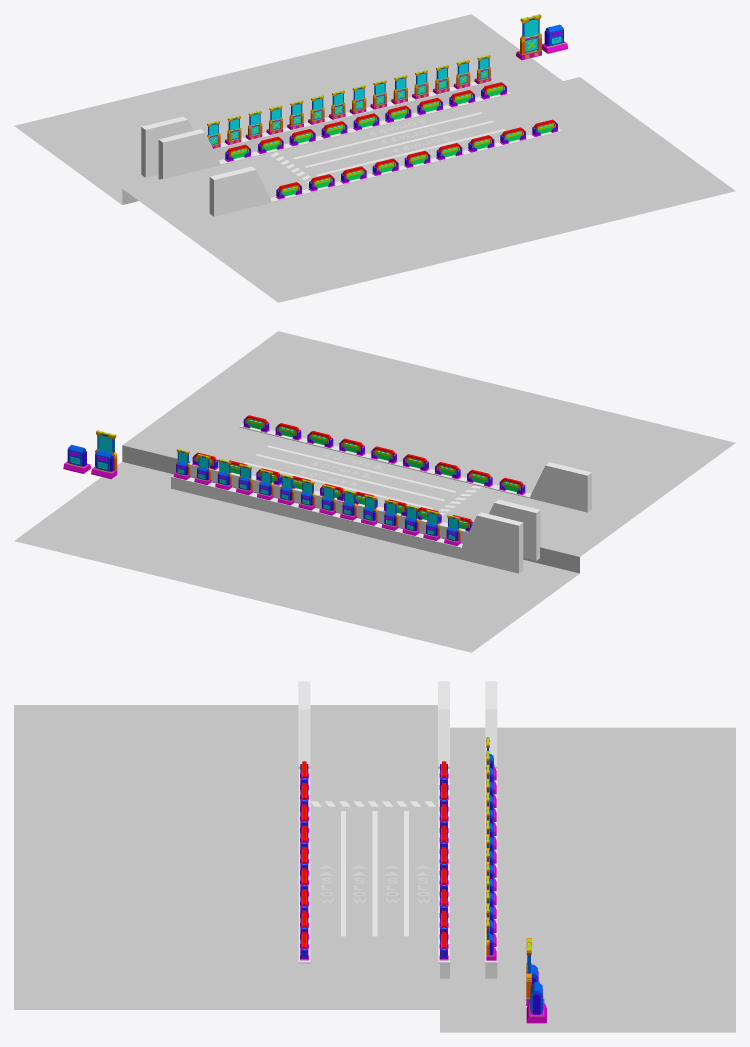
Rendered from Ground.fbx.
3 views of the same model, one above another, from view 1: azimuth 30°, elevation 25°; view 2: azimuth 150°, elevation 25°; view 3: azimuth 270°, elevation 25° (orthographic). The views are drawn at different scales.
Parts seen in each view (by area): view 1: BackGround, Box020, Box077, Box046, Box047, Box078, Box022, Object011, Object090; view 2: BackGround, Box046, Box047, Box077, Box022, Box020, Box078, Object011, Object090; view 3: BackGround, Box077, Box046, Box078, Box020, Box047, Box022, Plane001, Object090, Plane014, Plane015.
Part boxes in pixels (bbox=[...]): BackGround: bbox=[14, 14, 735, 302]; Box020: bbox=[158, 129, 220, 179]; Box077: bbox=[209, 166, 271, 216]; Box046: bbox=[213, 79, 493, 159]; Box047: bbox=[141, 116, 192, 177]; Box078: bbox=[270, 128, 561, 202]; Box022: bbox=[219, 91, 510, 165]; Object011: bbox=[516, 14, 541, 60]; Object090: bbox=[542, 24, 567, 53]; BackGround: bbox=[14, 331, 735, 652]; Box046: bbox=[171, 475, 462, 559]; Box047: bbox=[462, 512, 523, 573]; Box077: bbox=[530, 462, 591, 512]; Box022: bbox=[189, 461, 468, 542]; Box020: bbox=[489, 499, 540, 560]; Box078: bbox=[239, 424, 530, 498]; Object011: bbox=[91, 430, 117, 479]; Object090: bbox=[63, 444, 90, 473]; BackGround: bbox=[14, 705, 735, 1032]; Box077: bbox=[298, 681, 310, 769]; Box046: bbox=[485, 768, 497, 978]; Box078: bbox=[298, 768, 310, 963]; Box020: bbox=[438, 681, 449, 769]; Box047: bbox=[485, 681, 497, 768]; Box022: bbox=[438, 768, 449, 978]; Plane001: bbox=[372, 811, 377, 936]; Object090: bbox=[526, 982, 546, 1023]; Plane014: bbox=[404, 811, 408, 936]; Plane015: bbox=[341, 811, 345, 936].
Size of the model in its own units: 4173 by 4000 by 473.
